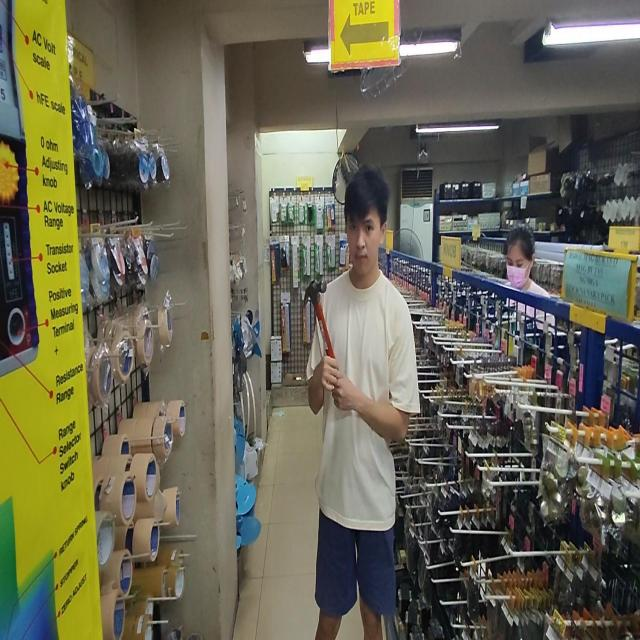hammer: (304, 279, 334, 359)
